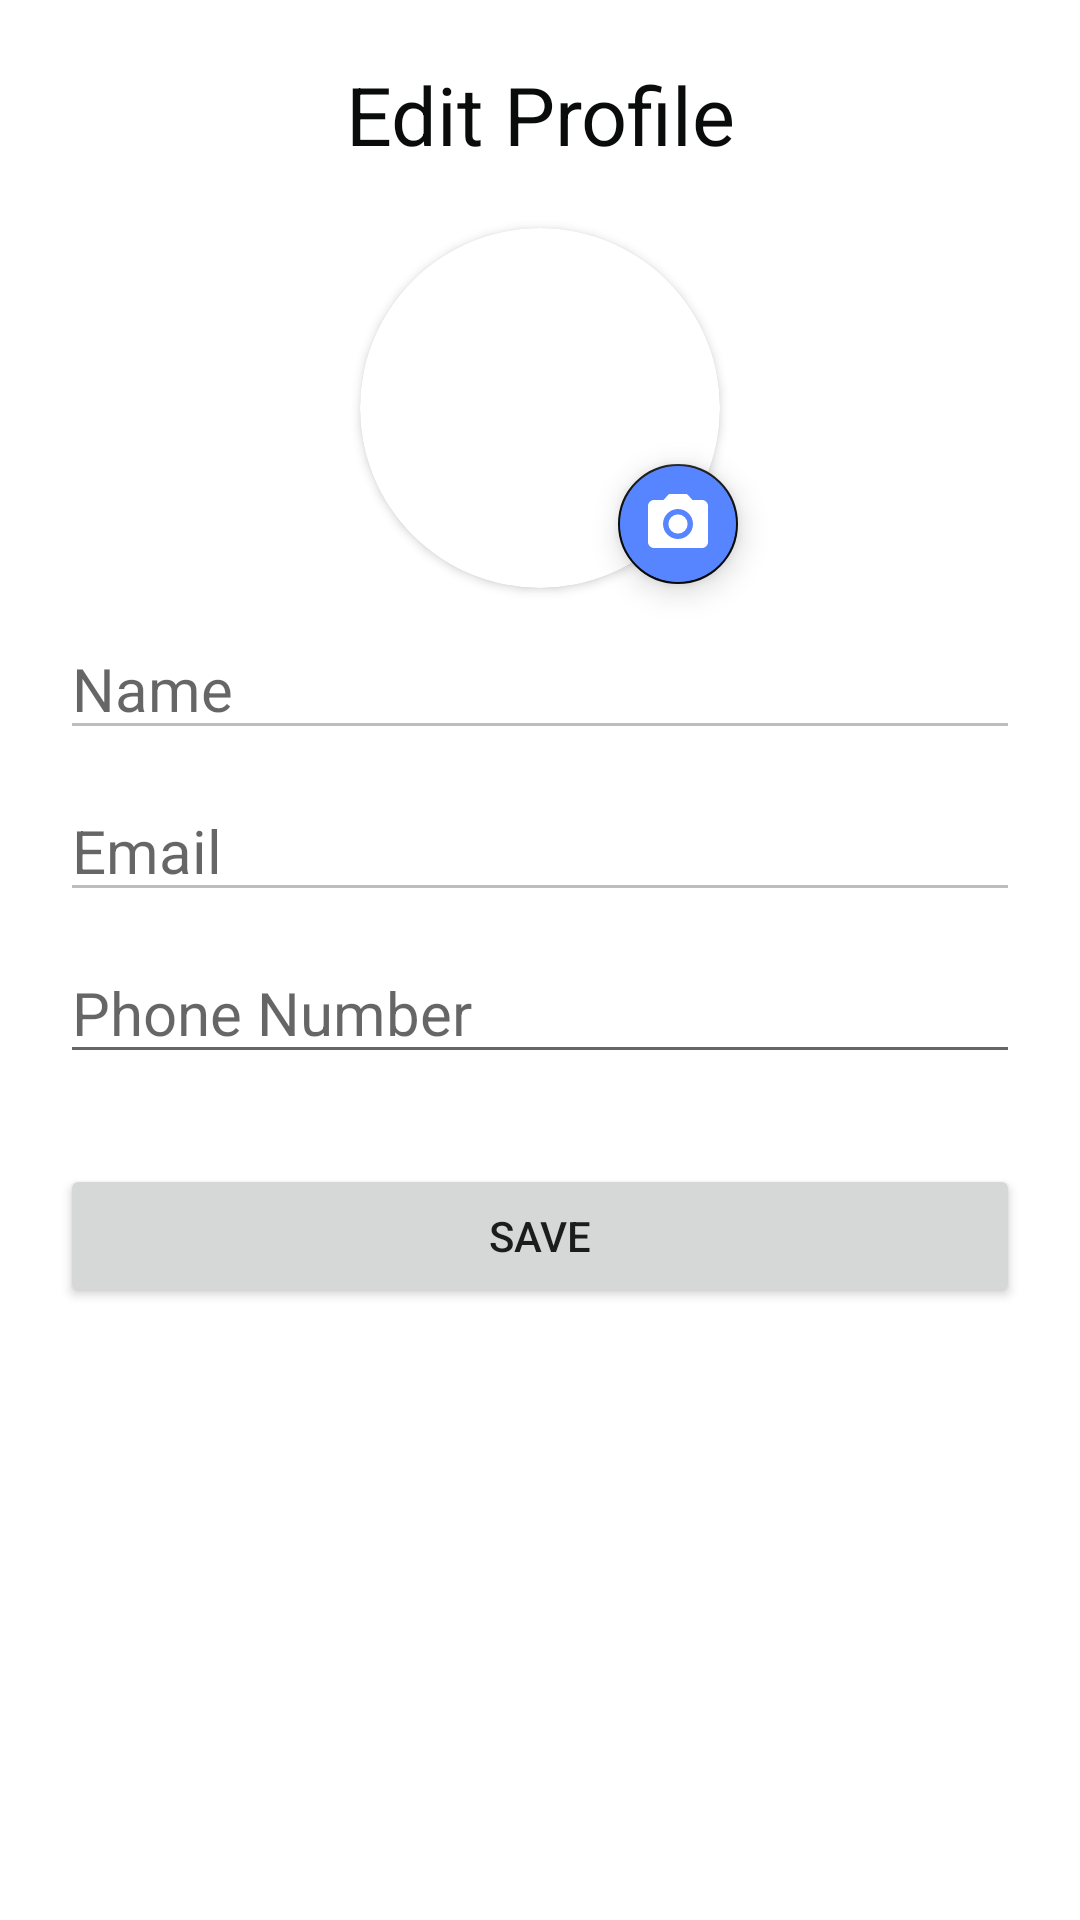

Named icons in this screenshot (1080*1920) and their centers, (x=x, y=y):
Edit Profile Pic: (x=672, y=521)
